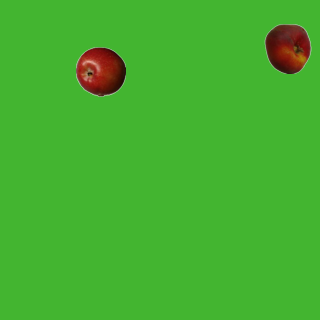Apple Braeburn: (75, 46, 125, 96)
Nectarine Flat: (262, 23, 312, 73)
